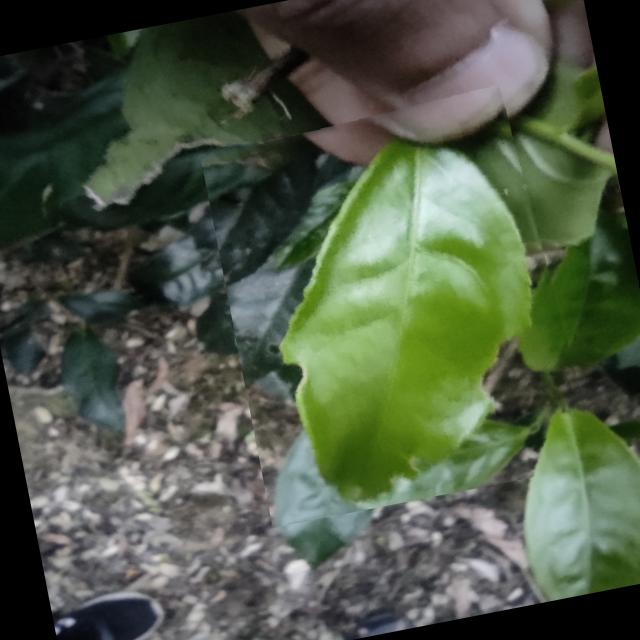Category C(4-7 days): (197, 80, 599, 528)
